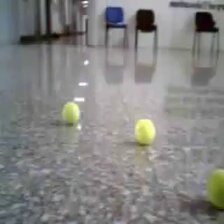tennis: (206, 168, 224, 207), (134, 119, 155, 146), (61, 101, 78, 122)
